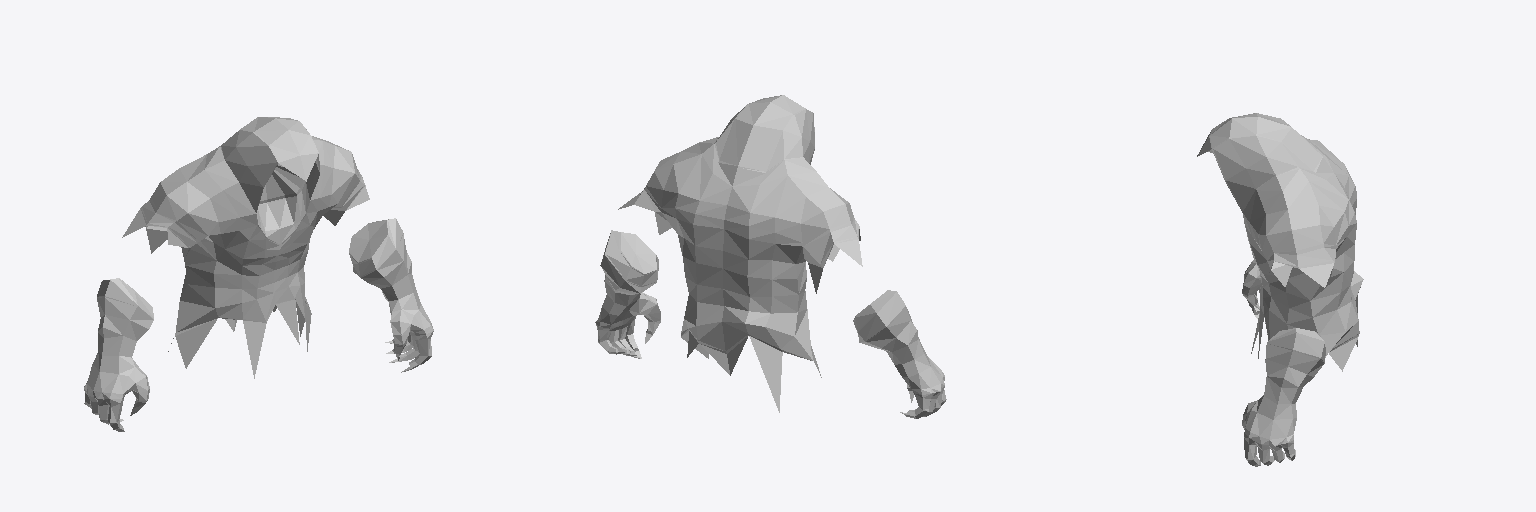
File: ghoul.obj
3 views of the same model, side by side, from view 1: azimuth 30°, elevation 25°; view 2: azimuth 150°, elevation 25°; view 3: azimuth 270°, elevation 25° (orthographic).
Visible parts, largest first — view 1: ghoul; view 2: ghoul; view 3: ghoul.
Boxes of the visible parts, box(x1,y1,x2,y2) form: ghoul: box(84, 117, 433, 431); ghoul: box(595, 95, 946, 418); ghoul: box(1197, 113, 1363, 466).
Bounding box in the file's own units: 201 × 162 × 85.29.